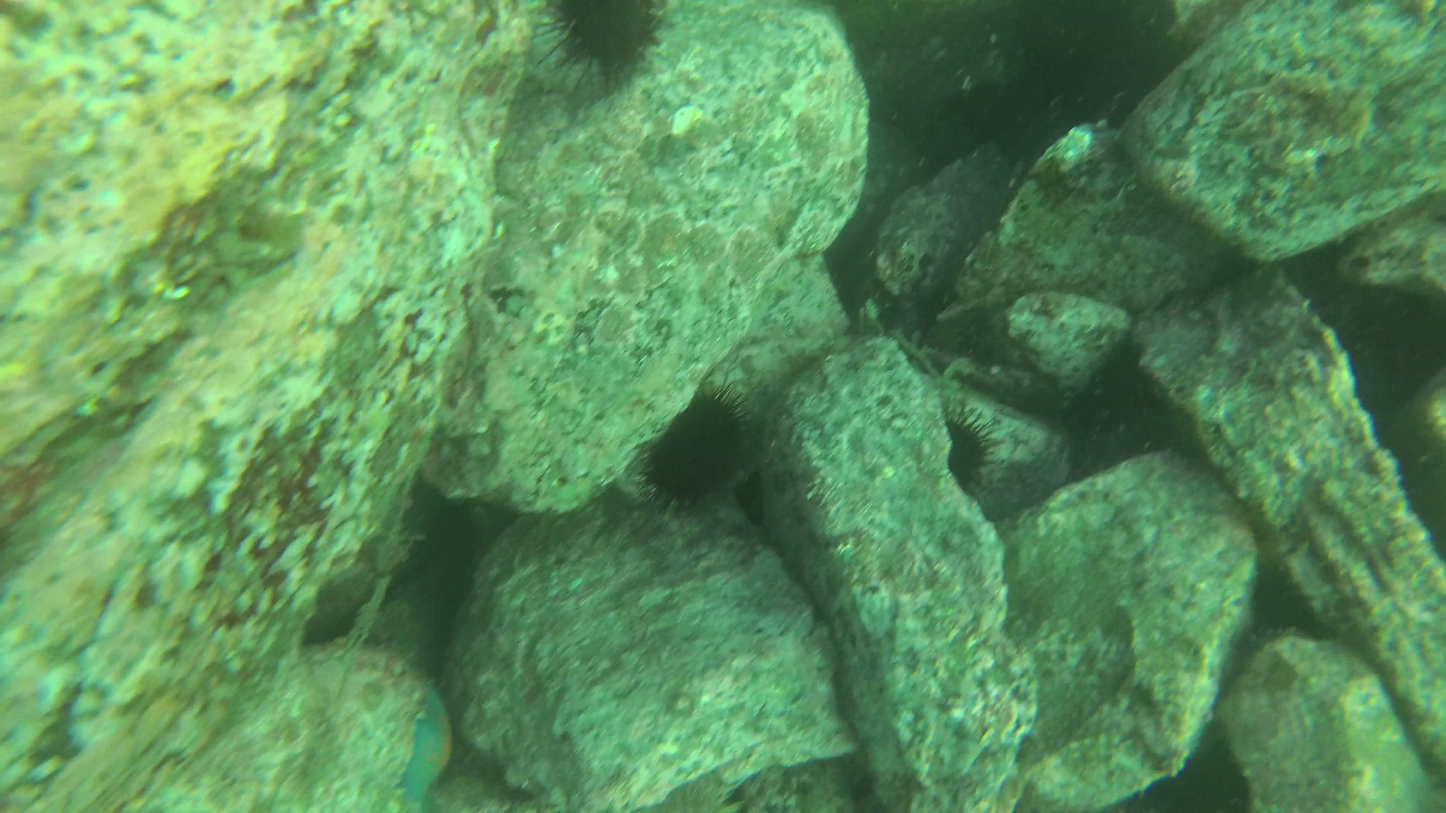holothurian: (403, 683, 455, 810)
starfish: (657, 388, 754, 487), (544, 0, 656, 84), (945, 406, 991, 485)
